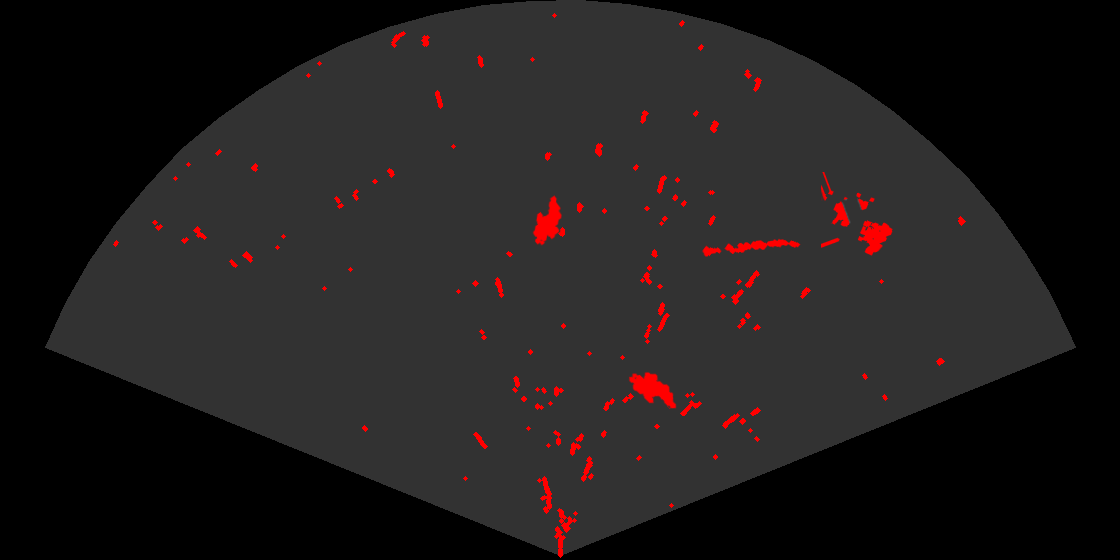AUV: (627, 370, 678, 410), (531, 194, 563, 247)
cage: (821, 172, 894, 257)
chain: (700, 237, 802, 258)
